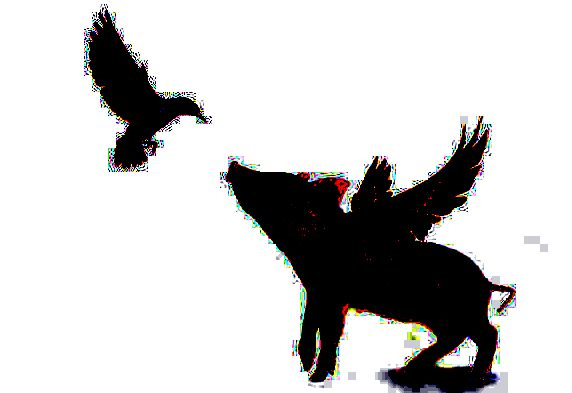Bird: (79, 6, 215, 172)
